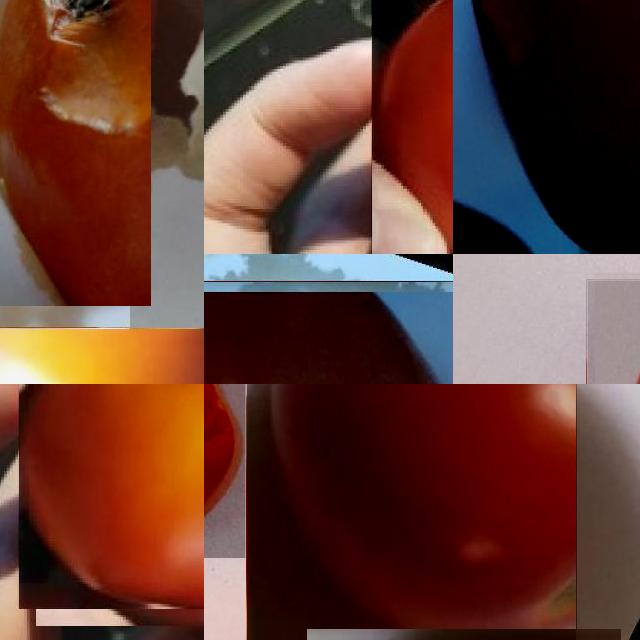1: (453, 0, 640, 254), (204, 281, 453, 384)
Fresh Tomato: (246, 384, 576, 640)
Rotten Tomato: (0, 0, 151, 306), (204, 384, 246, 558)
